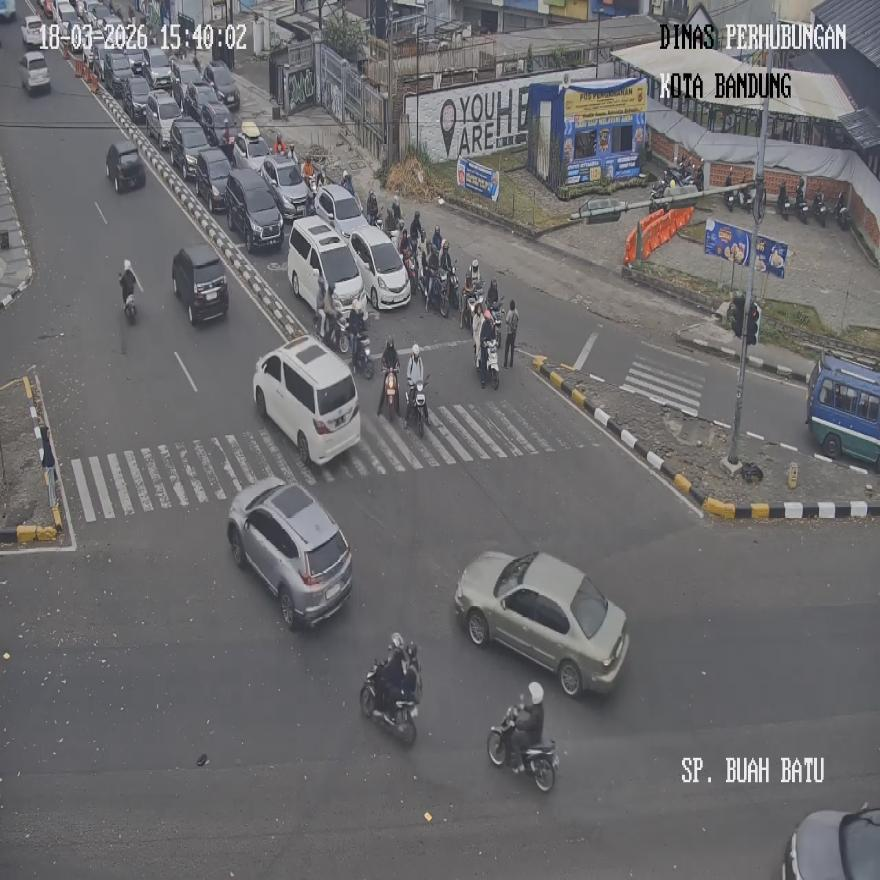Motor: (453, 550, 629, 698), (226, 476, 354, 631), (253, 334, 361, 465), (804, 350, 880, 470), (287, 214, 366, 315), (225, 167, 282, 252), (171, 244, 228, 324)
Truk: (487, 706, 557, 792), (360, 658, 418, 746), (405, 374, 429, 434), (478, 336, 500, 389), (380, 364, 400, 422), (118, 266, 136, 324), (352, 330, 373, 379), (425, 271, 447, 316), (462, 287, 481, 330), (404, 248, 420, 298), (444, 265, 460, 314), (366, 190, 382, 228), (724, 169, 737, 212), (740, 182, 756, 216), (836, 190, 849, 228), (778, 182, 790, 221), (796, 186, 809, 222), (813, 191, 826, 226)
